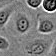cell: (14, 31, 29, 44), (29, 1, 41, 13), (44, 23, 56, 34), (1, 9, 7, 21)
